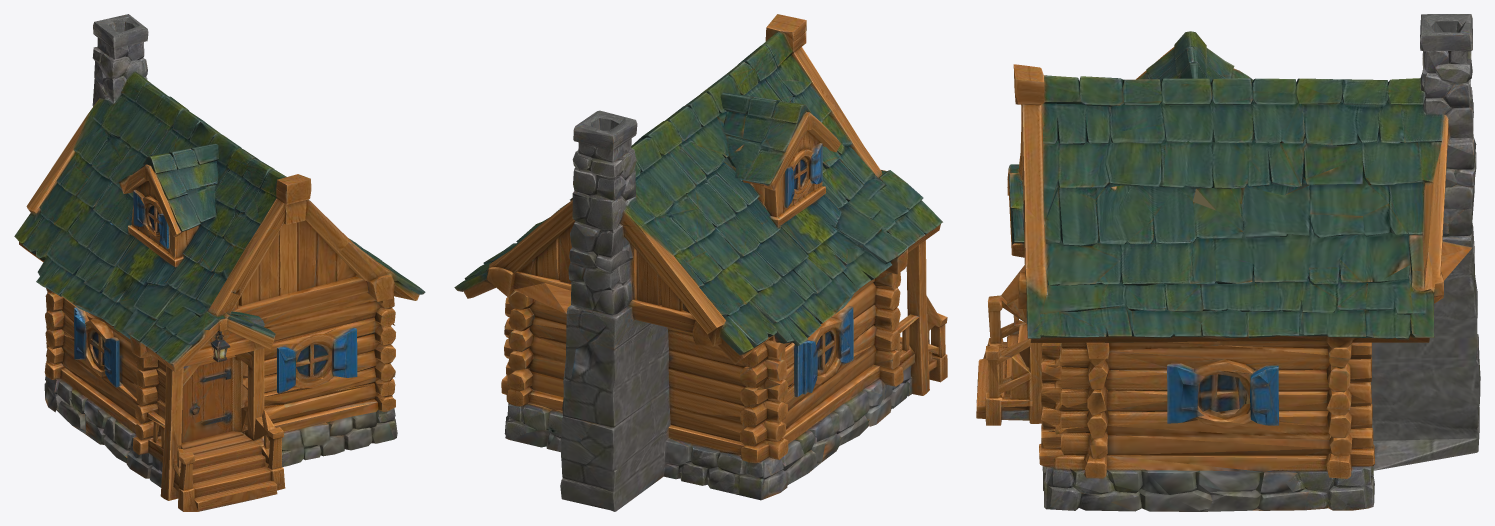
File: meadow_loghouse.glb
The picture shows the model from 3 angles, left to right: view 1: azimuth 30°, elevation 25°; view 2: azimuth 150°, elevation 25°; view 3: azimuth 270°, elevation 25°; orthographic projection. The views are drawn at different scales.
Bounding box in the file's own units: 1.46 × 1.7 × 1.88.
1 material, 1 textured.
